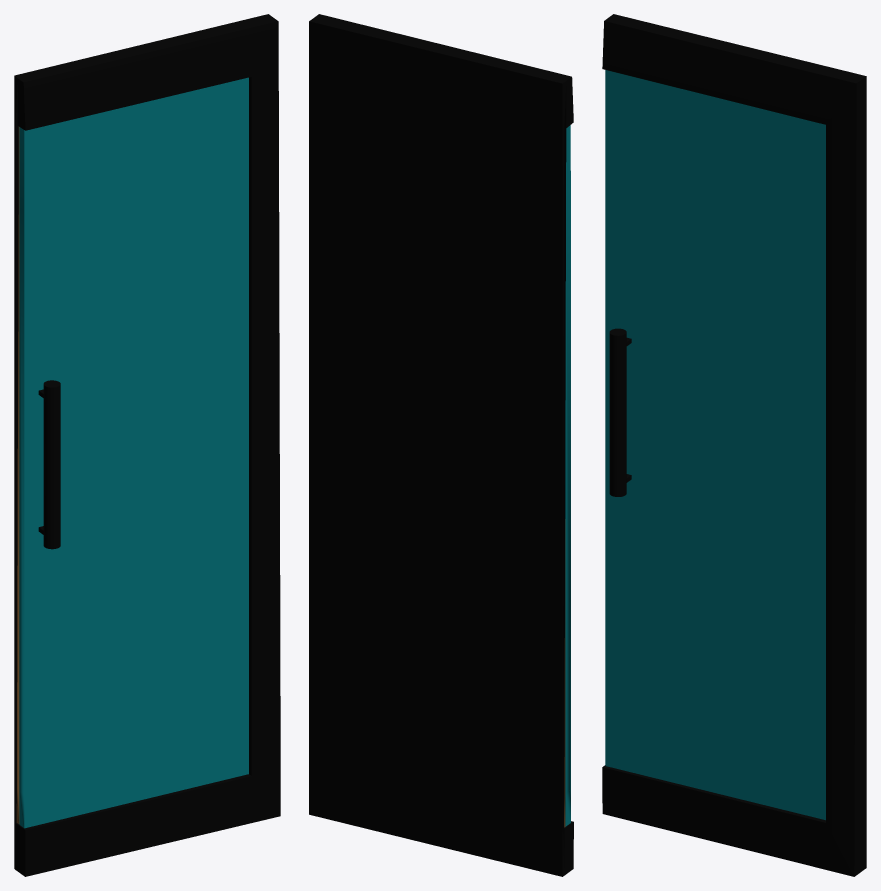
File: Right_InfinityMirror_Door.fbx
3 views of the same model, side by side, from view 1: azimuth 30°, elevation 25°; view 2: azimuth 150°, elevation 25°; view 3: azimuth 330°, elevation 25° (orthographic).
Parts seen in each view (by area): view 1: polySurface767; view 2: polySurface767; view 3: polySurface767.
Boxes of the visible parts, x1=… form: polySurface767: x1=14, y1=14, x2=280, y2=876; polySurface767: x1=309, y1=14, x2=573, y2=876; polySurface767: x1=602, y1=14, x2=866, y2=876.
Bounding box in the file's own units: 3.56 × 10.62 × 0.5109.
